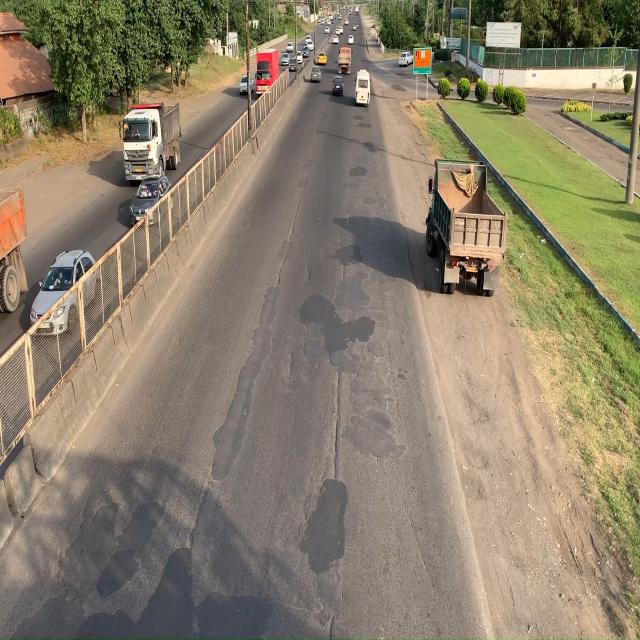Truck: (424, 156, 508, 298), (122, 95, 180, 185), (255, 47, 279, 93)
cars: (30, 250, 103, 336), (182, 133, 216, 176)
